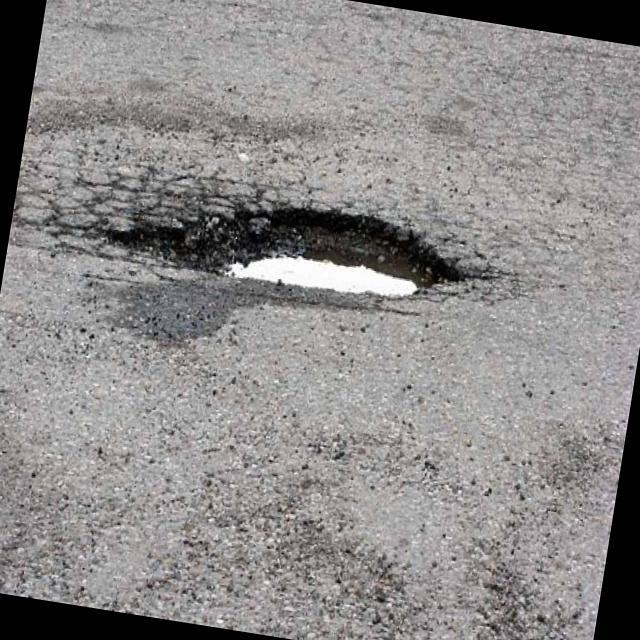Pothole: (75, 153, 493, 320)
